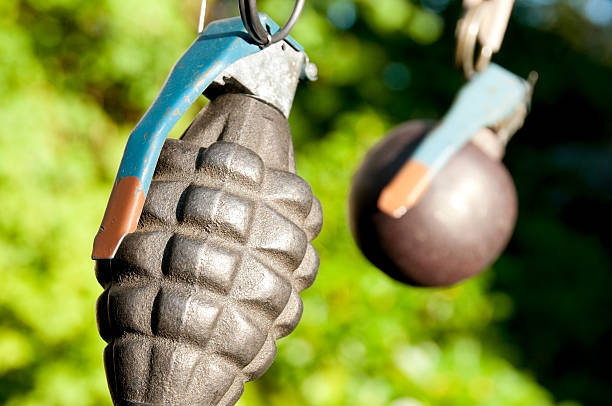e1: (94, 13, 325, 406), (348, 1, 537, 288)
